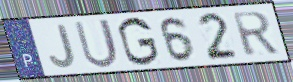2: (196, 11, 242, 62)
6: (159, 15, 197, 63)
G: (116, 16, 161, 67)
J: (47, 22, 78, 70)
R: (230, 10, 282, 58)
U: (72, 17, 121, 70)
